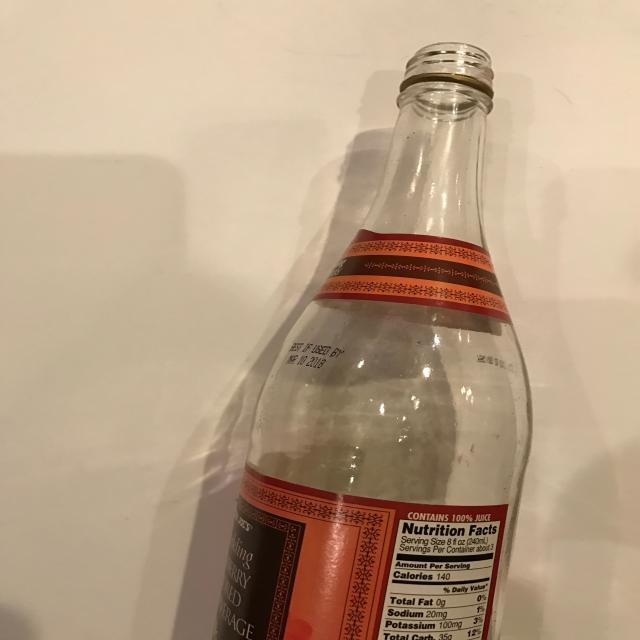glass: (208, 41, 538, 640)
